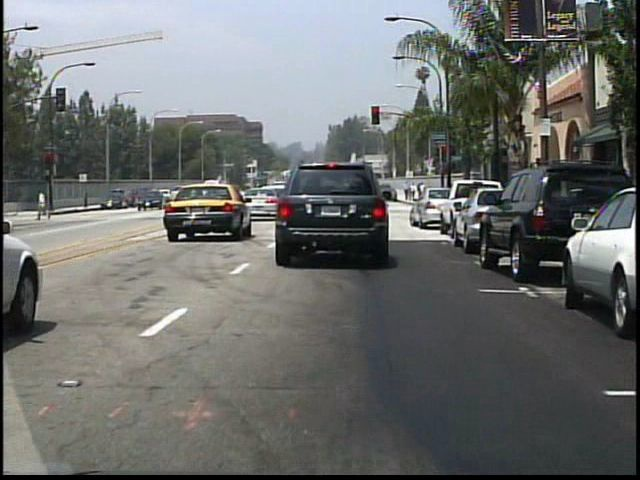person: (418, 180, 438, 214), (38, 186, 51, 223), (420, 180, 428, 204), (403, 180, 411, 202), (411, 181, 418, 203)
